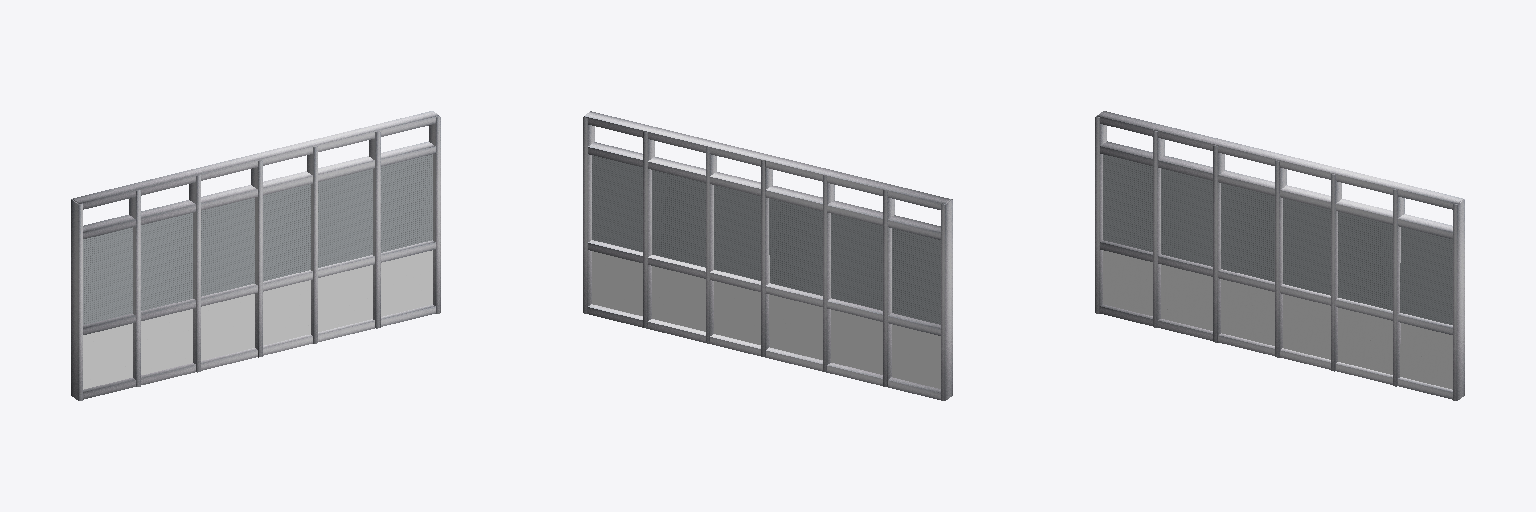
The picture shows the model from 3 angles: view 1: azimuth 30°, elevation 25°; view 2: azimuth 150°, elevation 25°; view 3: azimuth 330°, elevation 25°; orthographic projection.
Visible parts, largest first — view 1: Plane001, Plane002, Box008, Box009, Box006, Box007, Box001, Box011, Box002, Box004, Box005, Box010 (+1 smaller); view 2: Plane001, Plane002, Box008, Box009, Box007, Box006, Box001, Box011, Box002, Box004, Box005, Box010 (+1 smaller); view 3: Plane001, Plane002, Box008, Box009, Box006, Box007, Box002, Box001, Box010, Box005, Box004, Box011 (+1 smaller).
Part boxes in pixels (x1,y1,x2,y2): Plane001: (83, 154, 432, 324); Plane002: (83, 250, 432, 389); Box008: (73, 111, 438, 209); Box009: (83, 141, 435, 238); Box006: (83, 304, 435, 399); Box007: (83, 240, 435, 334); Box001: (71, 199, 82, 400); Box011: (369, 131, 380, 328); Box002: (429, 116, 440, 313); Box004: (129, 190, 140, 386); Box005: (251, 160, 262, 357); Box010: (189, 175, 200, 372); Plane001: (592, 155, 940, 324); Plane002: (592, 251, 940, 388); Box008: (584, 111, 950, 209); Box009: (588, 142, 940, 239); Box007: (588, 240, 940, 335); Box006: (588, 304, 940, 399); Box001: (941, 199, 952, 400); Box011: (643, 132, 654, 328); Box002: (583, 117, 594, 313); Box004: (883, 190, 894, 386); Box005: (761, 160, 772, 357); Box010: (823, 175, 834, 372); Plane001: (1103, 154, 1452, 324); Plane002: (1103, 250, 1452, 389); Box008: (1097, 111, 1463, 209); Box009: (1100, 141, 1452, 238); Box006: (1100, 304, 1452, 399); Box007: (1100, 240, 1452, 334); Box002: (1453, 199, 1464, 400); Box001: (1095, 112, 1106, 313); Box010: (1213, 145, 1224, 342); Box005: (1275, 160, 1286, 357); Box004: (1153, 130, 1164, 327); Box011: (1393, 189, 1404, 386).
Bounding box in the file's own units: 181 × 94.22 × 6.63.
Materials: 3 (3 with a texture image).